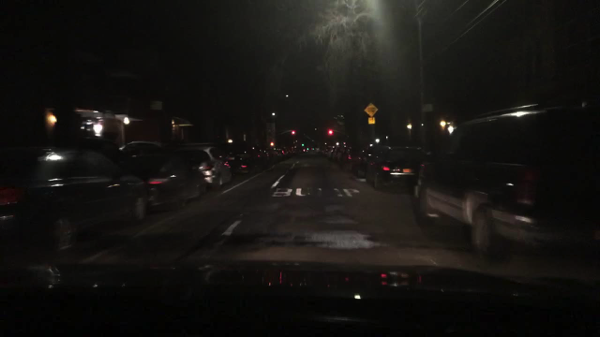car: (414, 103, 599, 259), (2, 146, 149, 254), (128, 154, 208, 212), (364, 146, 423, 189), (176, 147, 234, 190), (224, 147, 255, 178), (354, 149, 374, 179), (119, 140, 163, 153), (342, 147, 357, 171), (251, 146, 264, 169), (264, 148, 273, 166), (336, 147, 345, 162), (273, 151, 280, 163), (331, 147, 337, 160), (325, 147, 332, 158), (280, 147, 286, 159), (286, 148, 293, 157), (293, 147, 300, 156), (301, 147, 308, 154)
traffic light: (291, 131, 294, 138), (329, 130, 332, 135)
traffic sign: (364, 103, 378, 117), (368, 118, 376, 124)
